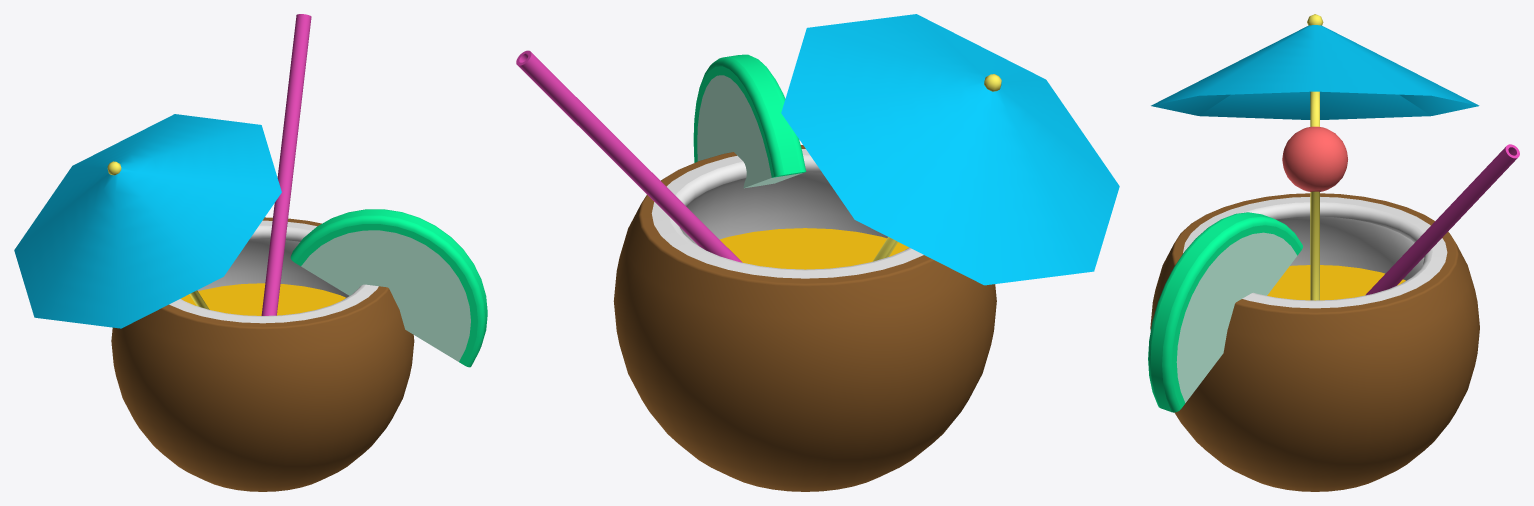
File: LoopDreams_VR_Assets_R3_TropicalDrink.fbx
The picture shows the model from 3 angles, left to right: view 1: azimuth 30°, elevation 25°; view 2: azimuth 150°, elevation 25°; view 3: azimuth 270°, elevation 25°; orthographic projection. The views are drawn at different scales.
Parts seen in each view (by area): view 1: Coconut, Umbrella, Lime, Staw; view 2: Coconut, Umbrella, Lime, Staw; view 3: Coconut, Umbrella, Lime, Staw.
Part boxes in pixels (x1,y1,x2,y2): Coconut: [111, 217, 414, 491]; Umbrella: [14, 114, 281, 328]; Lime: [290, 209, 487, 367]; Staw: [261, 14, 311, 315]; Coconut: [613, 145, 996, 491]; Umbrella: [781, 14, 1119, 285]; Lime: [693, 54, 806, 188]; Staw: [516, 50, 742, 262]; Coconut: [1150, 193, 1479, 491]; Umbrella: [1151, 14, 1479, 300]; Lime: [1148, 212, 1302, 412]; Staw: [1365, 144, 1519, 295].
Size of the model in its own units: 293 by 268 by 226.
